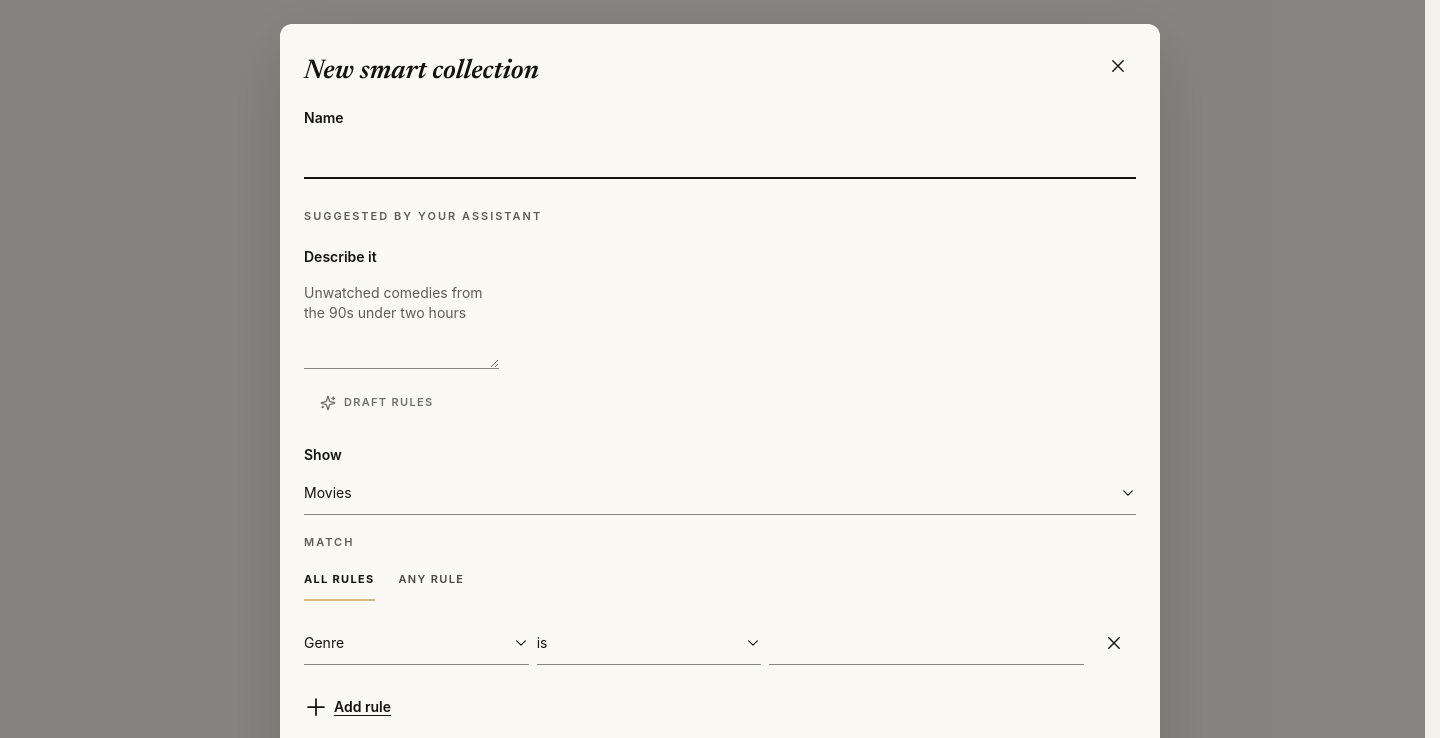
it: Smart collection builder › labels the assistant suggestion when AI is available, and drafts rows from words
Check: the text "Suggested by your assistant" is shown, box [304,209,542,224]
In the text box labelled "Describe it": (402, 321) [304,273,499,369], type "90s comedies"
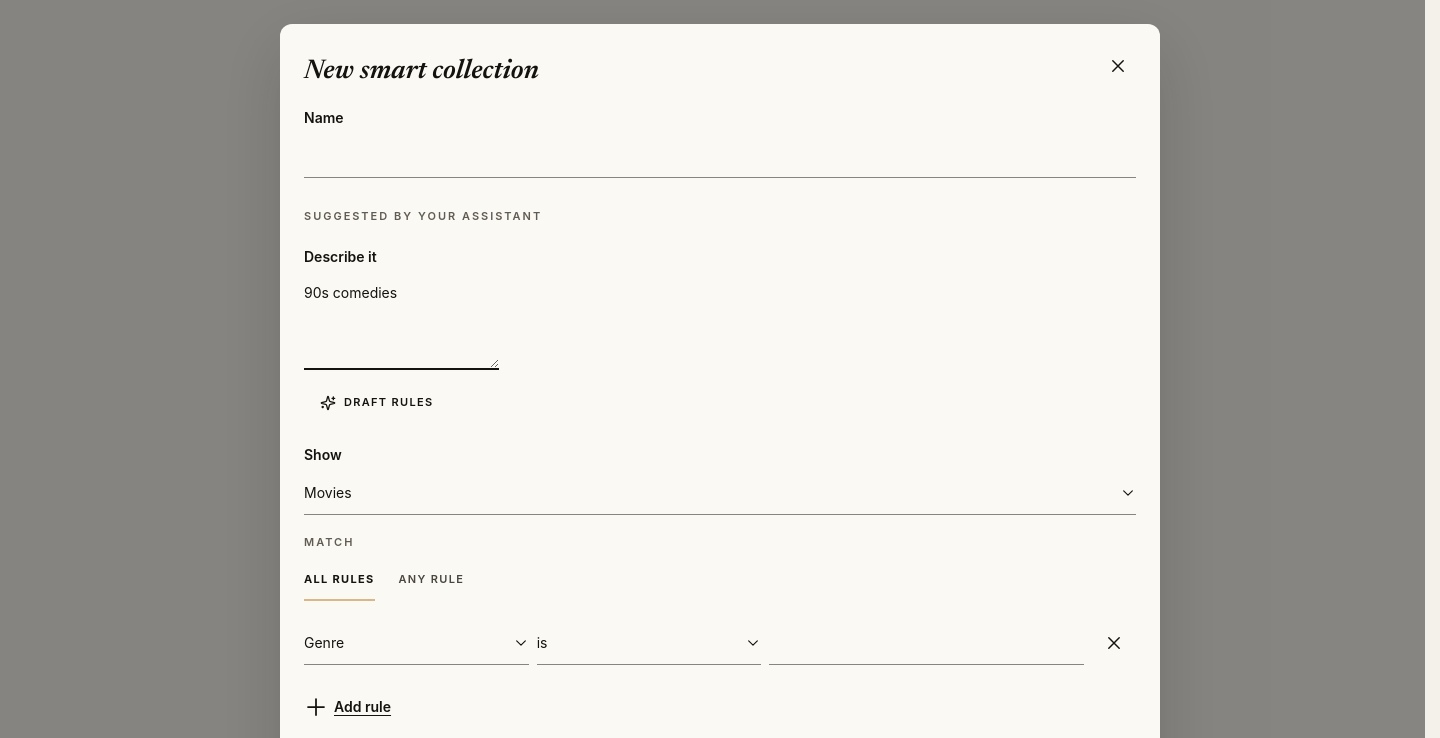
Click the button "Draft rules": (377, 403) [304,381,450,425]
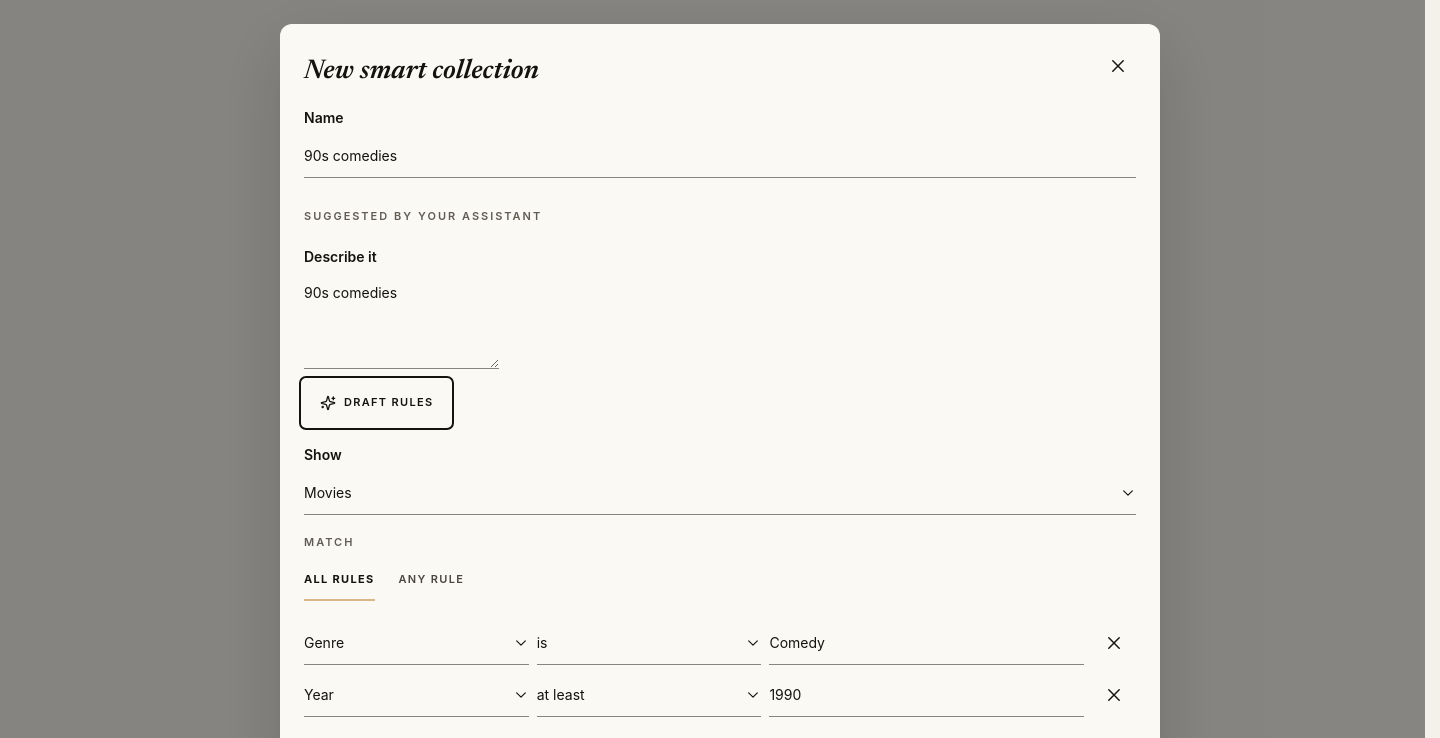
Check: the 2nd field named "Value 2" holds "1990", box [769,674,1084,718]
